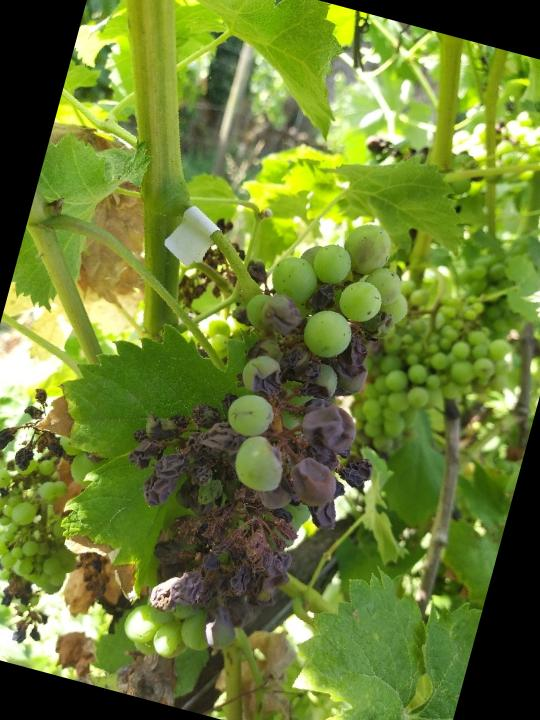grape: (80, 176, 438, 701)
